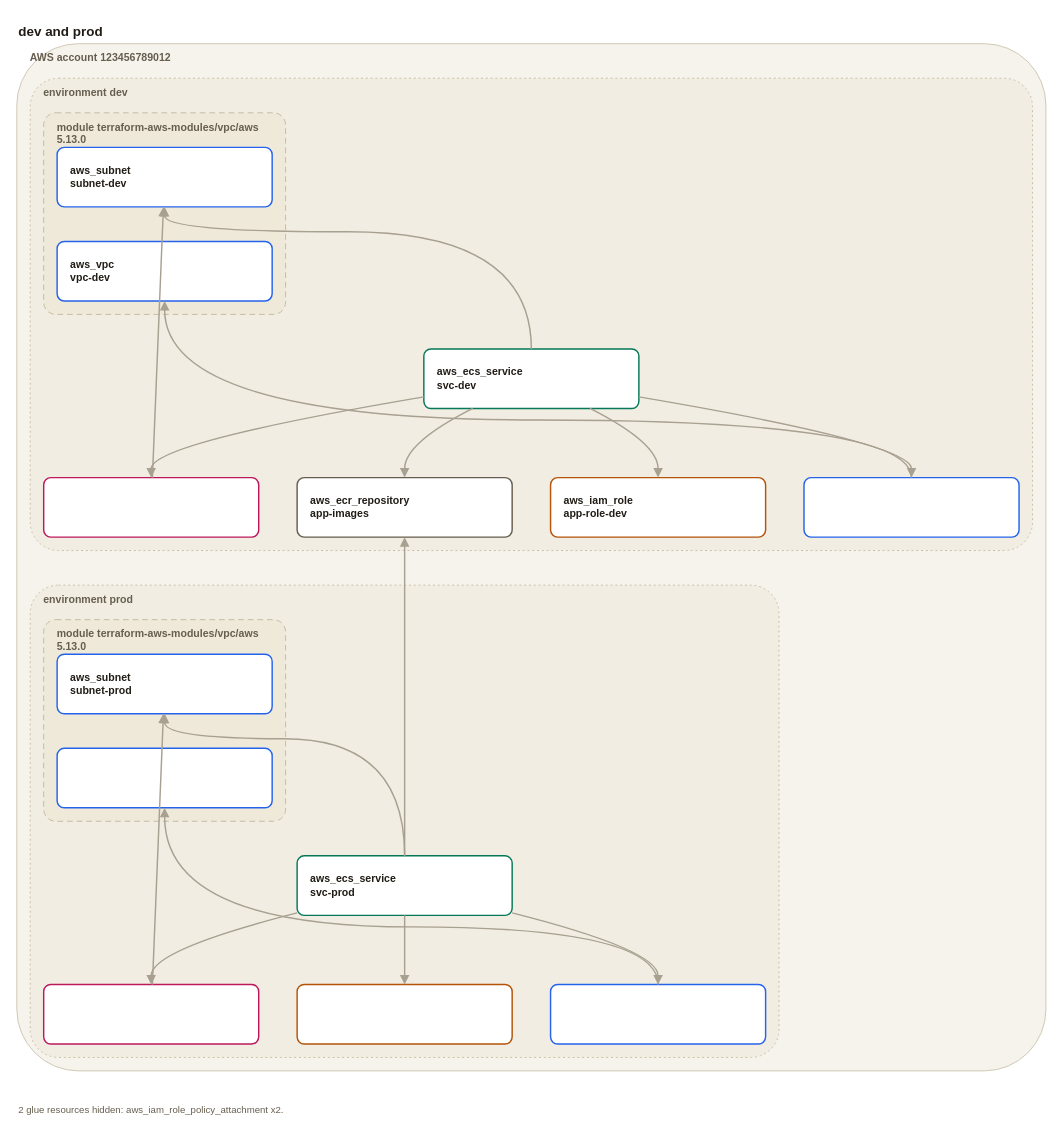
Image size: 1063x1132. Some labels were removed from this diagram. The centre of each missing label's shape, as x and y in pixels:
"aws_db_instance db-dev" goes at (x=151, y=506).
"aws_db_instance db-prod" goes at (x=151, y=1013).
"aws_iam_role app-role-prod" goes at (x=404, y=1013).
"aws_security_group sg-dev" goes at (x=911, y=506).
"aws_security_group sg-prod" goes at (x=657, y=1013).
"aws_vpc vpc-prod" goes at (x=164, y=777).
